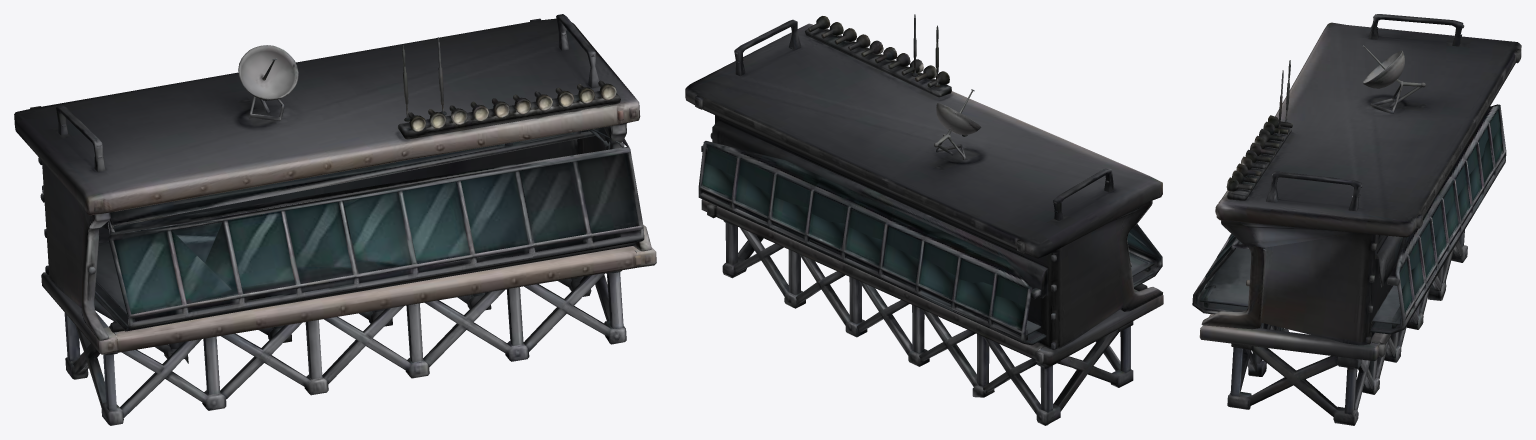
Rendered from press_box.glb.
The picture shows the model from 3 angles, left to right: view 1: azimuth 30°, elevation 25°; view 2: azimuth 150°, elevation 25°; view 3: azimuth 270°, elevation 25°; orthographic projection. The views are drawn at different scales.
Visible parts, largest first — view 1: press_box; view 2: press_box; view 3: press_box.
Boxes of the visible parts, <box> form: press_box: <box>14,14,656,425</box>; press_box: <box>685,14,1163,425</box>; press_box: <box>1192,14,1521,425</box>.
Size of the model in its own units: 0.995 by 0.6314 by 0.6323.
Materials: 1 (1 with a texture image).
